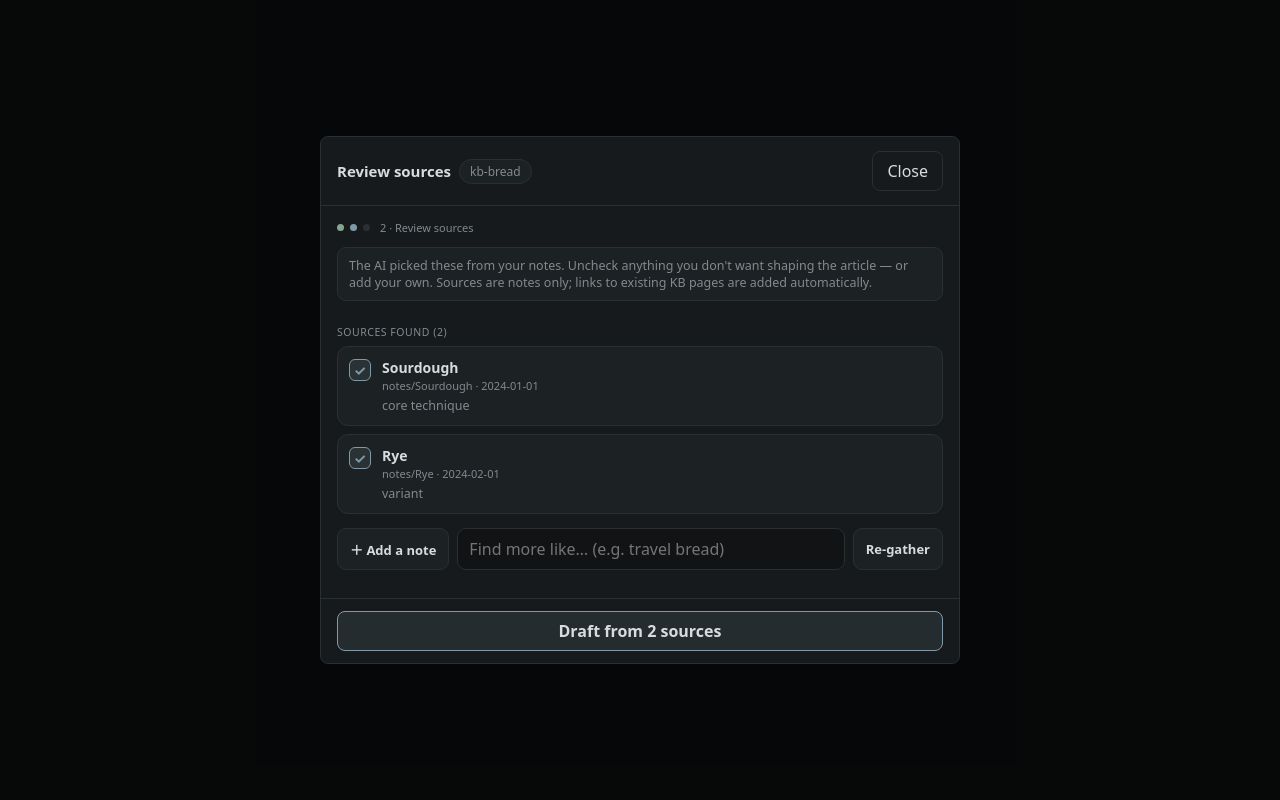
it: RebuildPanel — draft (Stage 3) › a mid-draft error event flips to the error phase with a Close action
The image size is (1280, 800).
Click the button "Draft from 2 sources": (640, 631) 337,611 -> 943,651
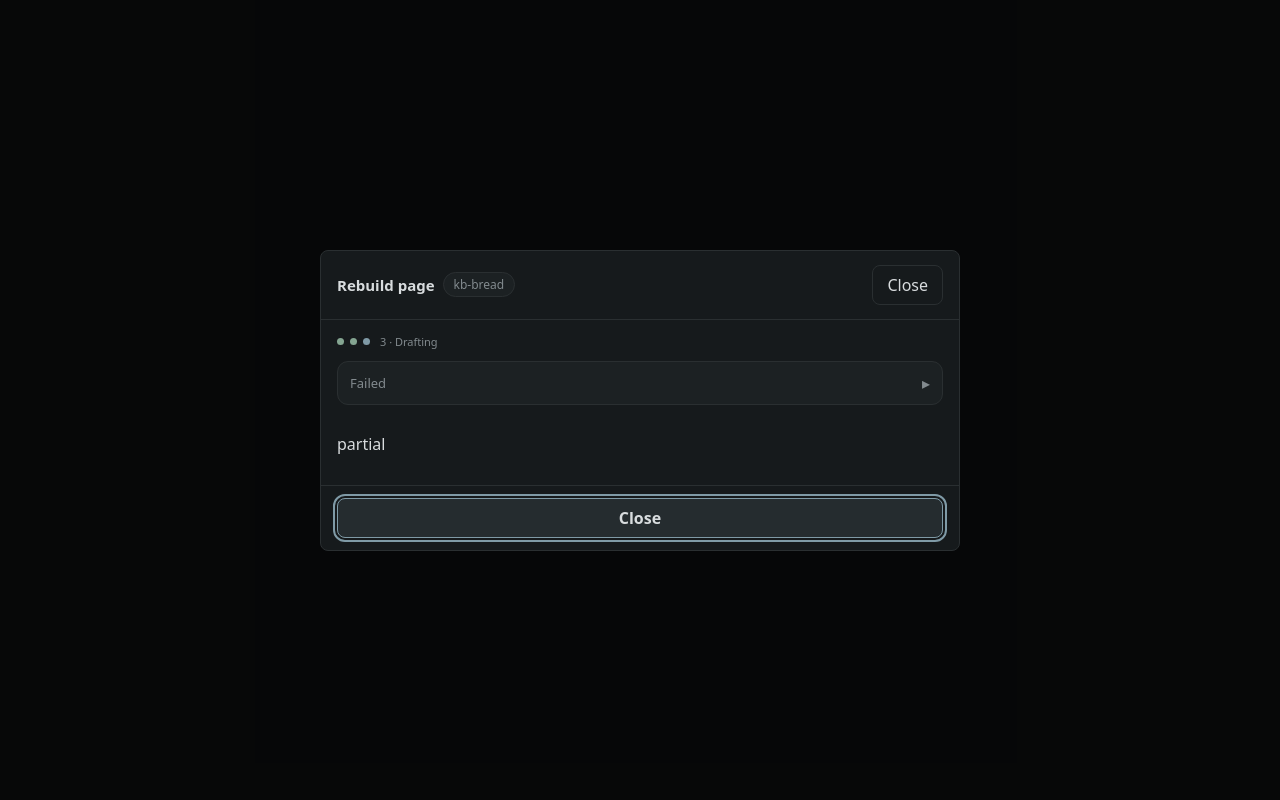
Expected: the 2nd button "Close" is shown, 337,498 -> 943,538
Now the text "Failed" is shown, box 350,374 -> 386,392
